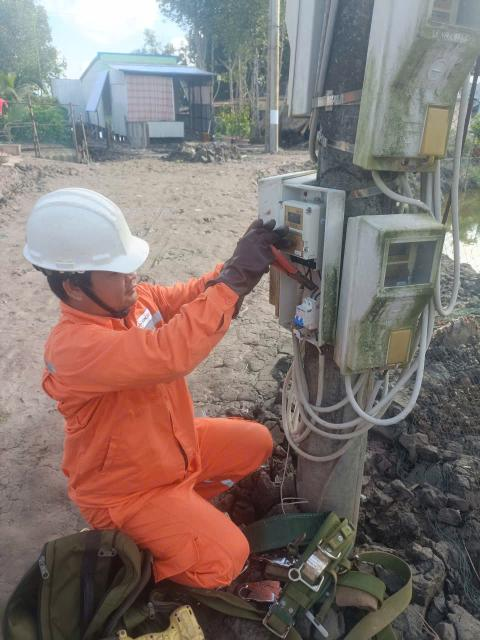gloves: (203, 192, 321, 328)
helmet: (0, 164, 153, 296)
